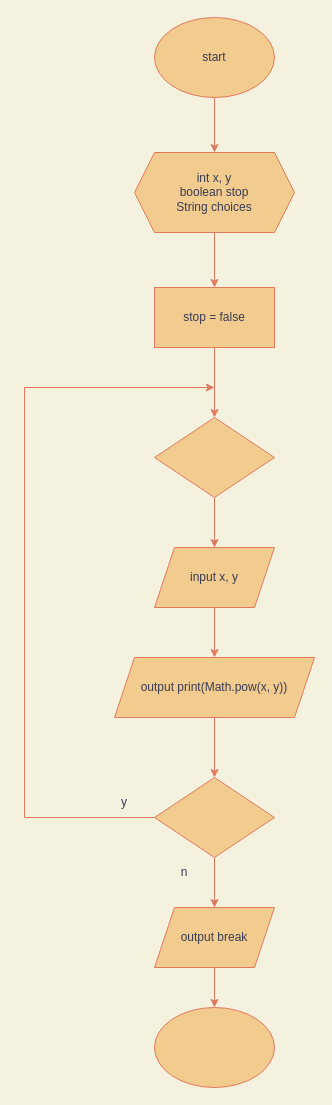
The diagram is 332 pixels wide and 1105 high, and some of its shapes have lost their labels. The box of each missing label's shape, as (x1, y1, x2, y2) in pixels:
!stop: (154, 416, 274, 498)
end: (154, 1006, 274, 1088)
if choices == "n": (154, 776, 274, 858)
